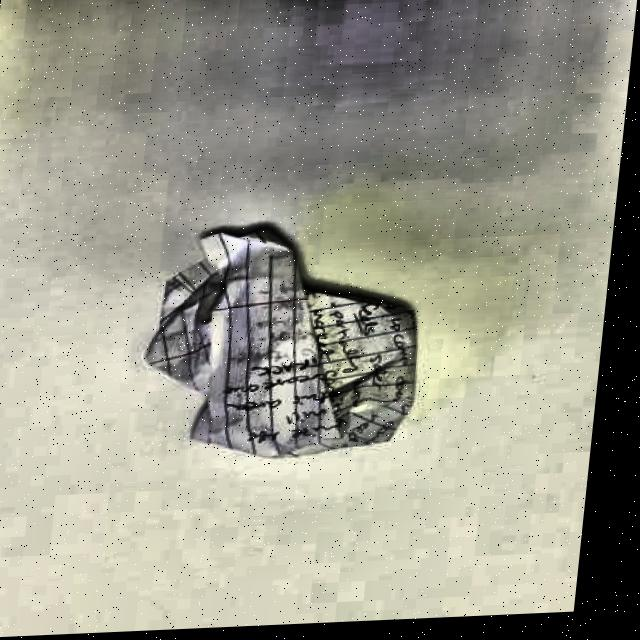paper: (131, 219, 434, 464)
